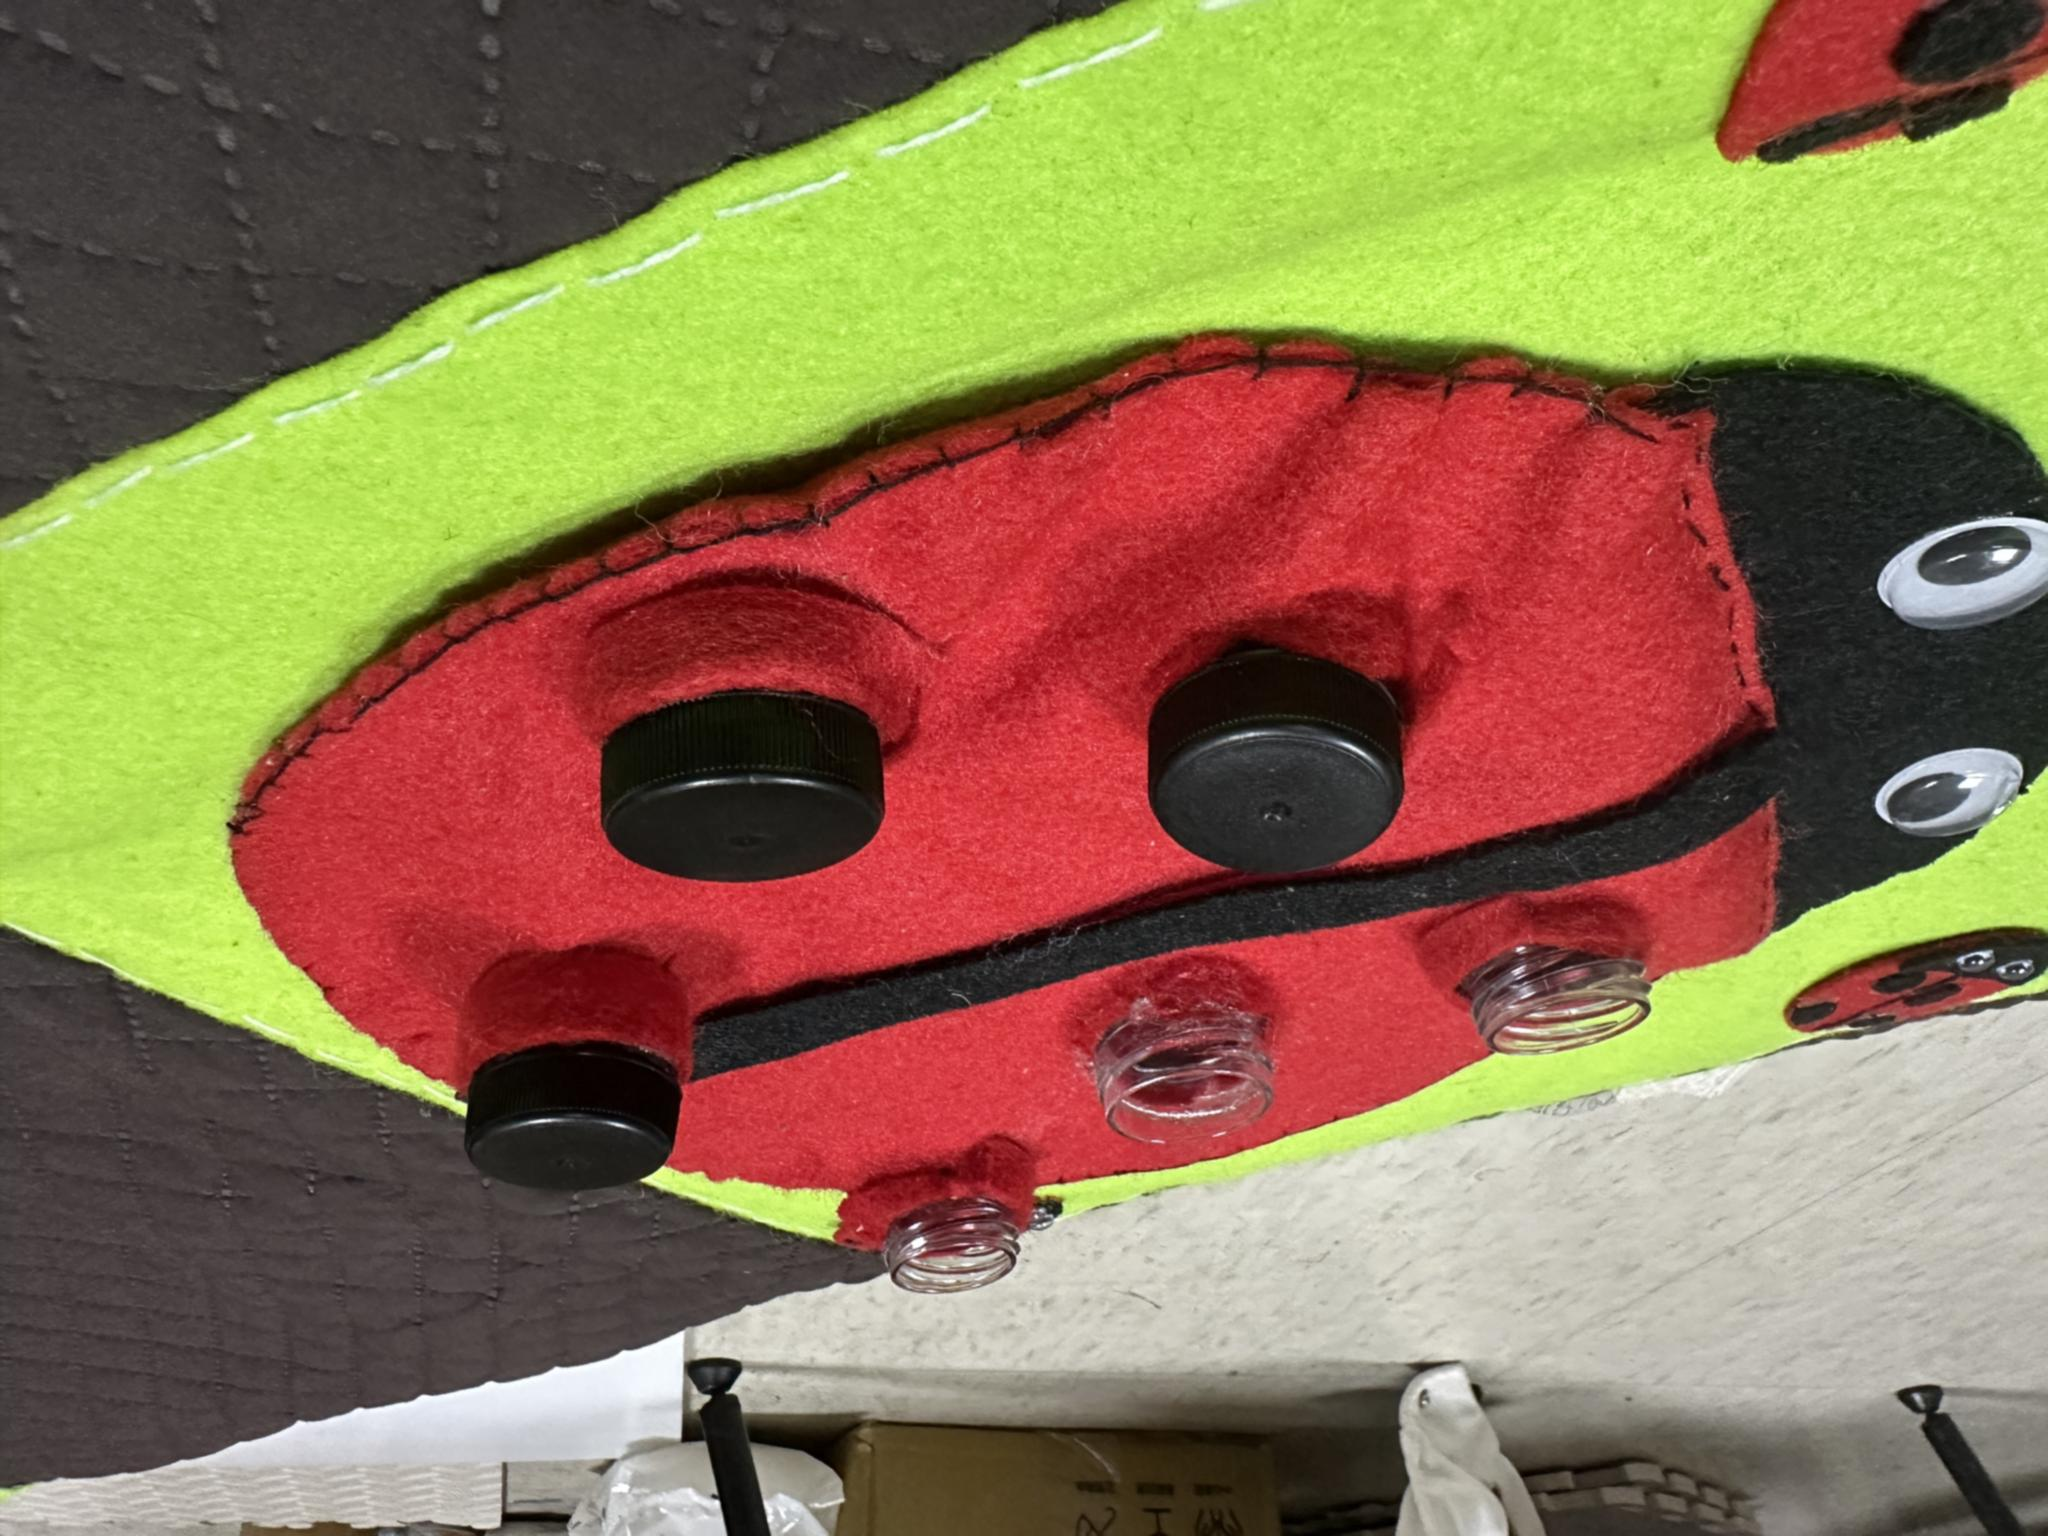cap_ok: (552, 576, 922, 907), (1100, 628, 1450, 883), (413, 936, 719, 1218)
